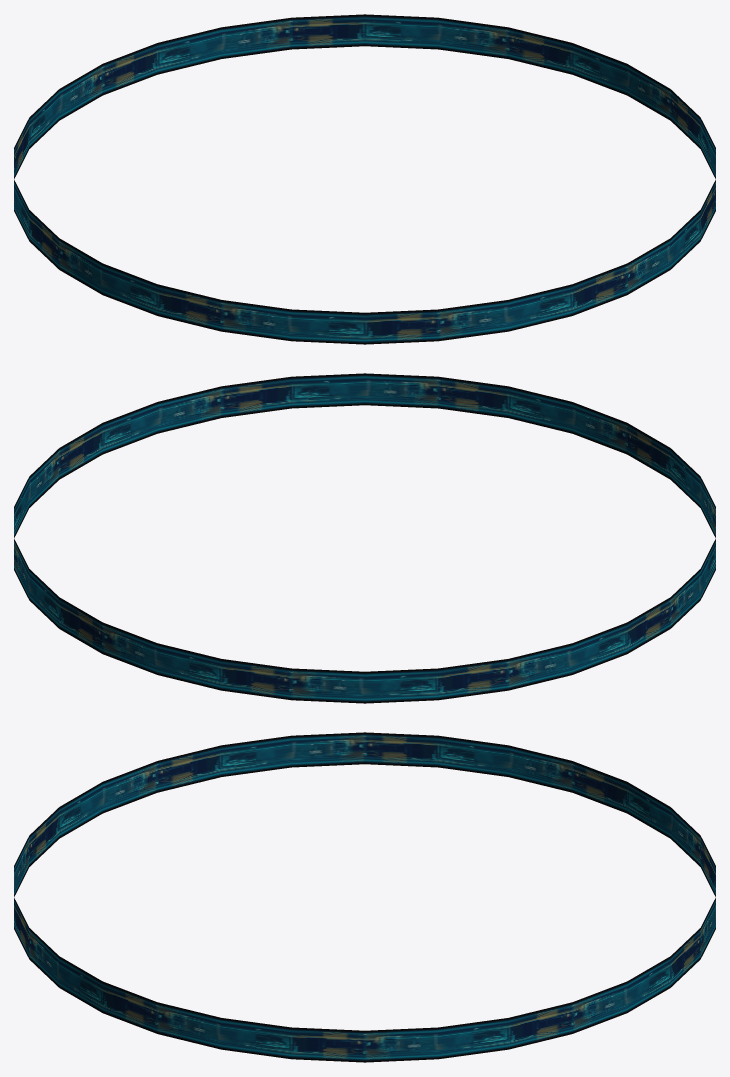
Rendered from ts_jjcgow002.FBX.
3 views of the same model, one above another, from view 1: azimuth 30°, elevation 25°; view 2: azimuth 150°, elevation 25°; view 3: azimuth 270°, elevation 25° (orthographic).
Parts seen in each view (by area): view 1: ts_jjcgow002; view 2: ts_jjcgow002; view 3: ts_jjcgow002.
Boxes of the visible parts, x1=… form: ts_jjcgow002: x1=14, y1=14, x2=715, y2=344; ts_jjcgow002: x1=14, y1=373, x2=715, y2=703; ts_jjcgow002: x1=14, y1=732, x2=715, y2=1062.
Size of the model in its own units: 32.01 by 1.59 by 31.83.
